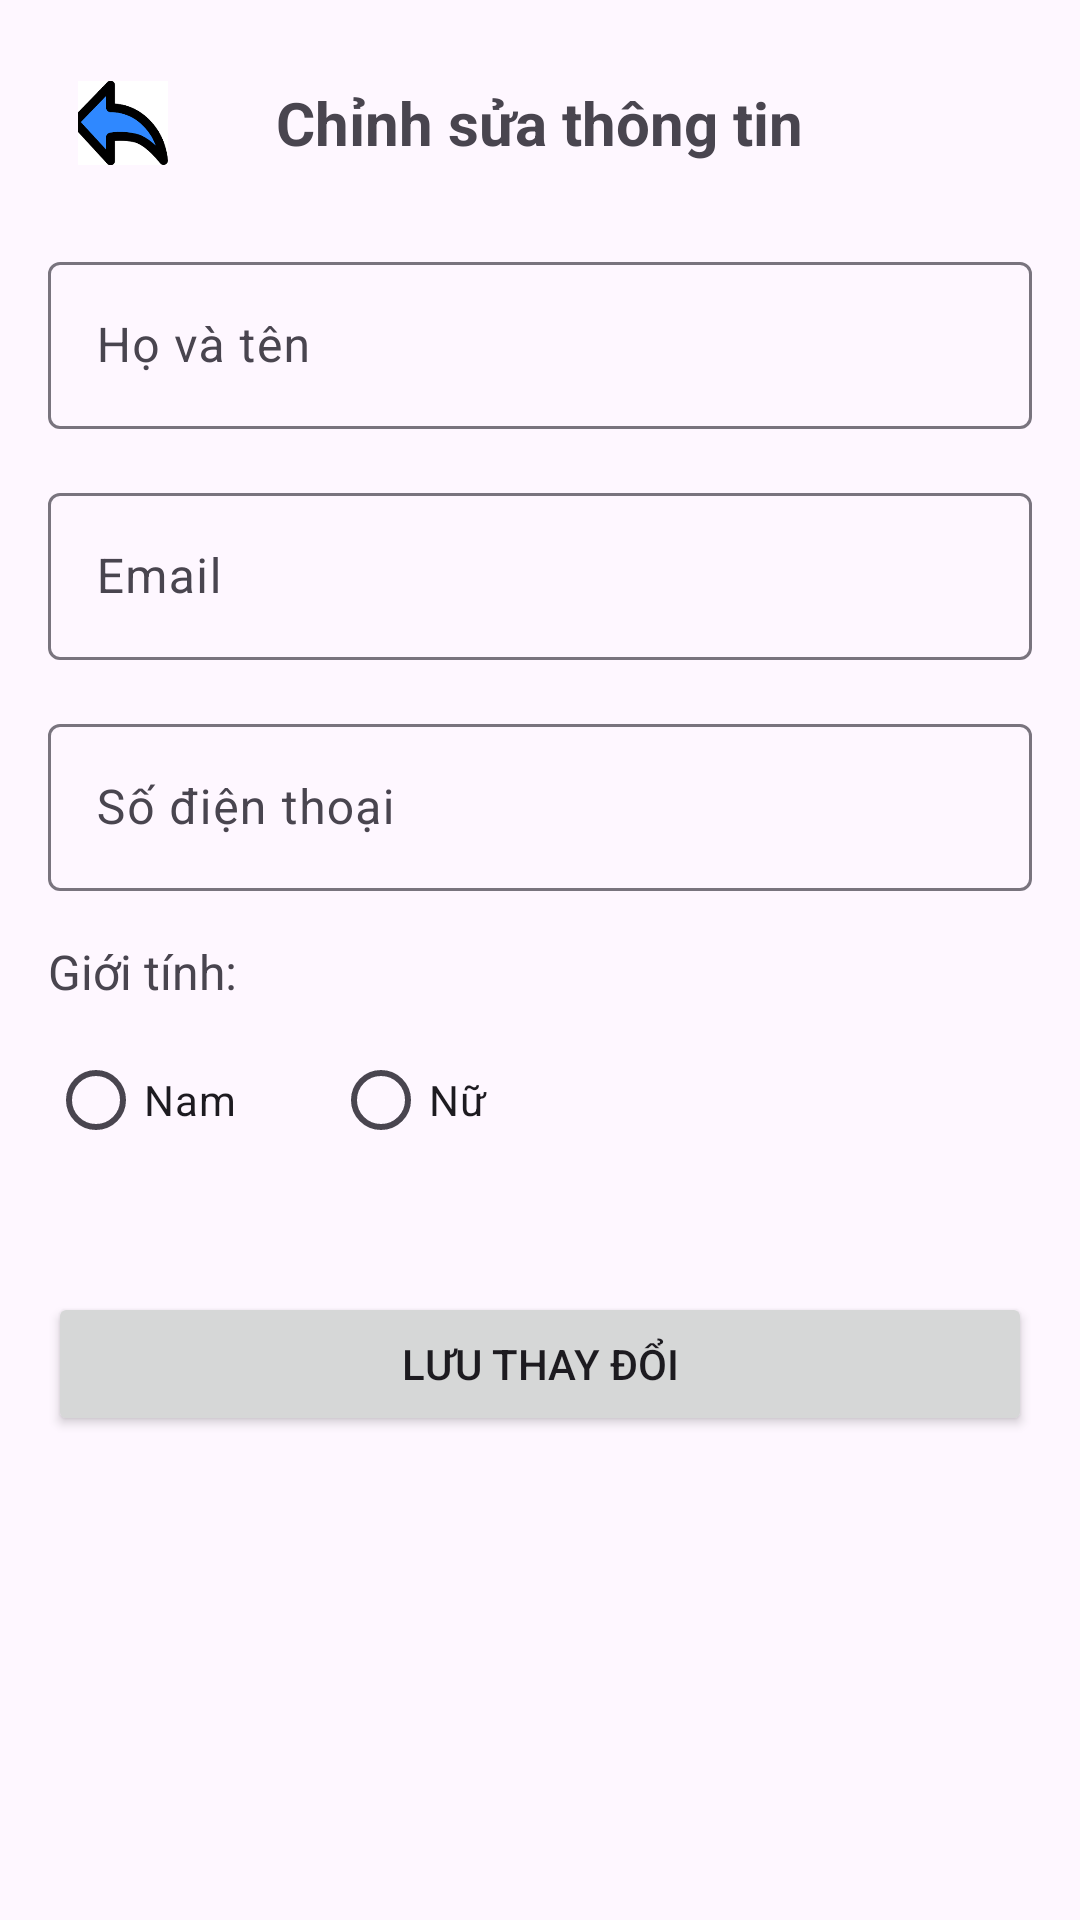

Named icons in this screenshot (1080*1920) and their bounding boxes, (x1, y1, x2, y2):
back: (78, 81, 168, 165)
